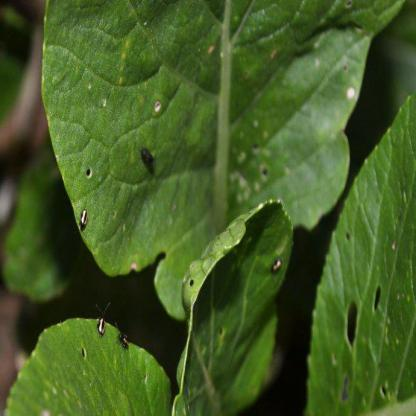beetle: (139, 142, 156, 173), (116, 324, 131, 354), (270, 254, 285, 278), (78, 207, 91, 234), (95, 313, 108, 340)
